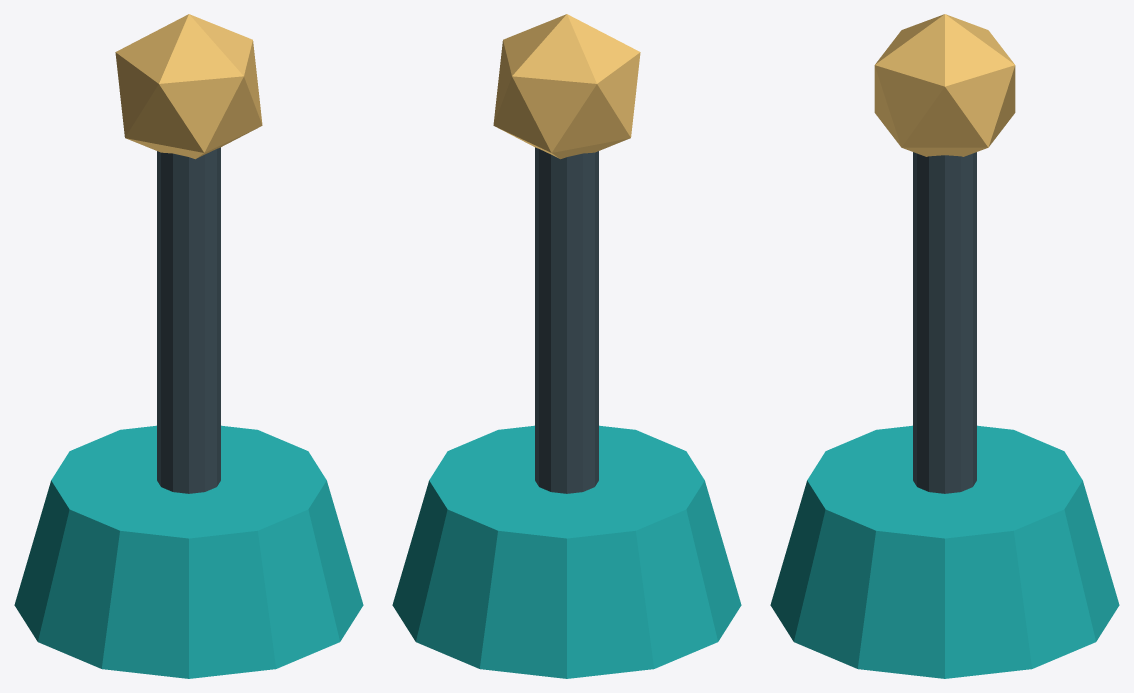
File: buoy.glb
3 views of the same model, side by side, from view 1: azimuth 30°, elevation 25°; view 2: azimuth 150°, elevation 25°; view 3: azimuth 270°, elevation 25° (orthographic).
Visible parts, largest first — view 1: Float, Beacon, Warning lamp; view 2: Float, Beacon, Warning lamp; view 3: Float, Beacon, Warning lamp.
Boxes of the visible parts, x1,y1,x2,y2 form: Float: (14,425,363,678); Beacon: (157,147,220,493); Warning lamp: (115,14,262,159); Float: (392,425,741,678); Beacon: (535,147,598,493); Warning lamp: (493,14,640,159); Float: (770,425,1119,678); Beacon: (913,152,976,493); Warning lamp: (874,14,1015,156).
Bounding box in the file's own units: 0.76 × 1.42 × 0.76.
